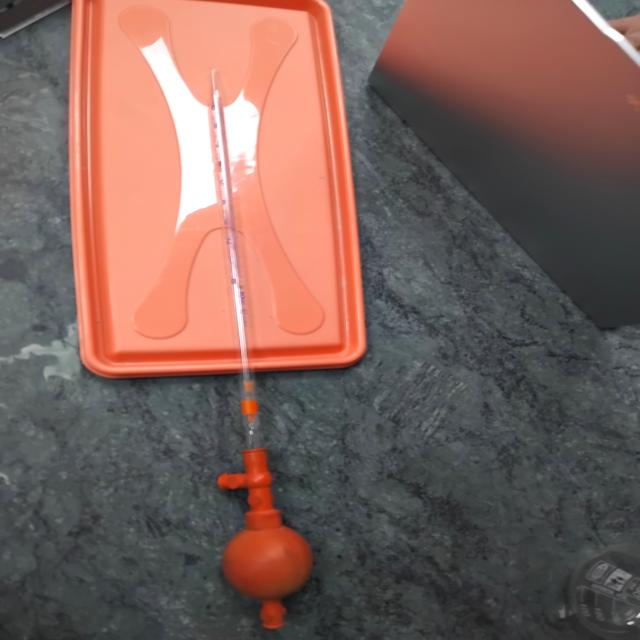Volumetric_Pipet: (166, 52, 348, 639)
